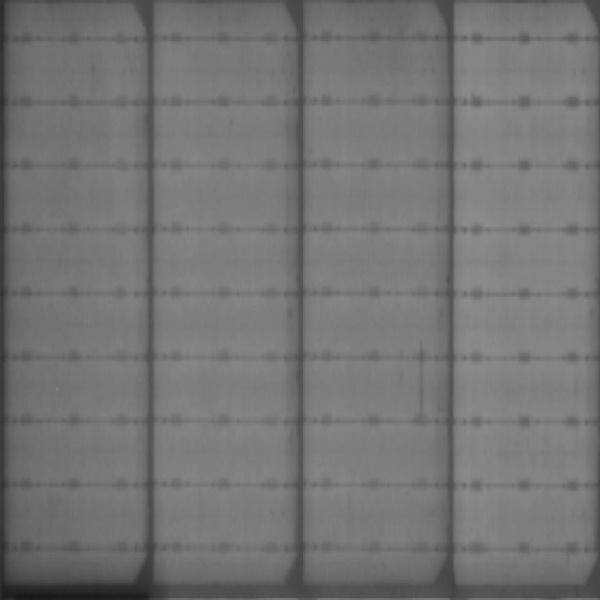scratch: (413, 332, 430, 429)
